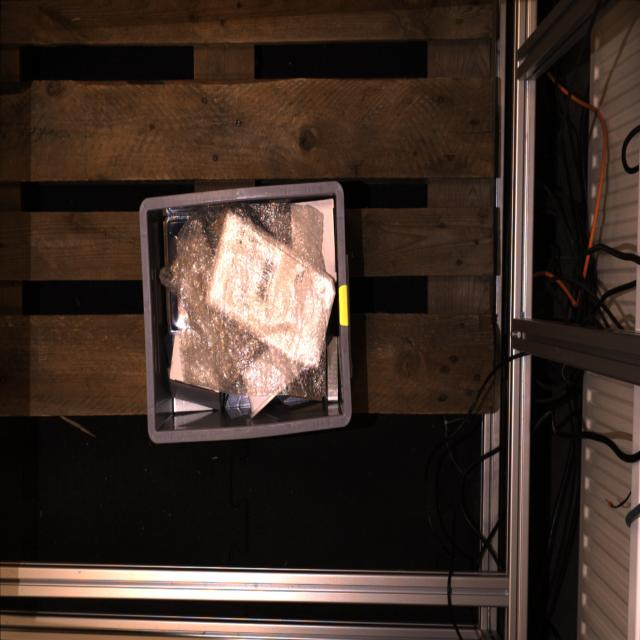BoxInsideWrap: (204, 209, 337, 369)
CardboardBox: (169, 335, 220, 410), (290, 198, 336, 279), (327, 336, 338, 401), (174, 397, 213, 412)
ItemPackaging: (164, 211, 194, 266), (166, 290, 179, 334)
PackagingAirBags: (160, 203, 335, 398)
PlasticContainer: (242, 358, 286, 418)
